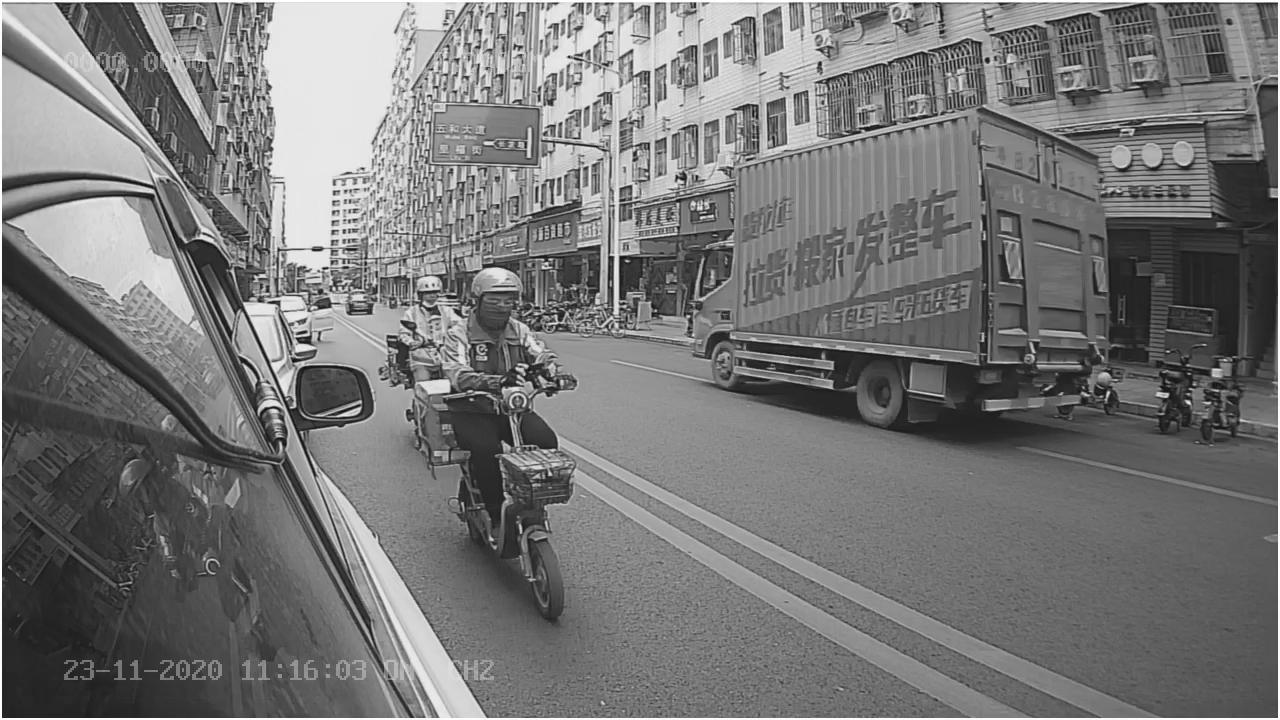person: (434, 263, 565, 365)
